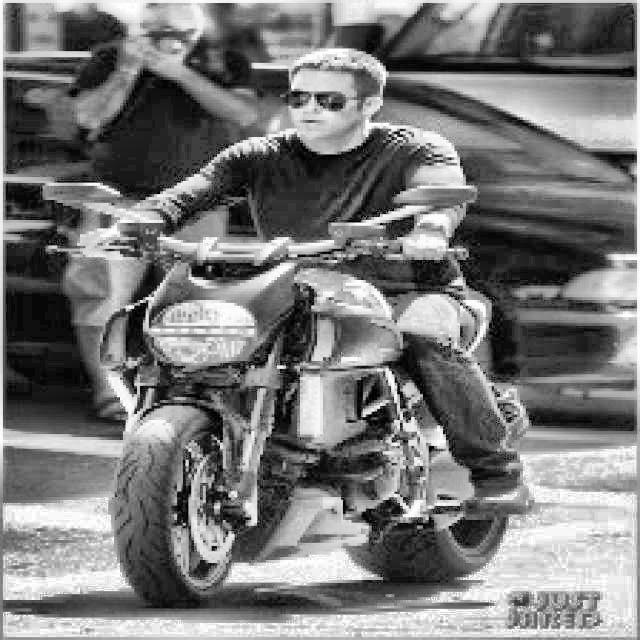motorcycle: (23, 153, 555, 606)
